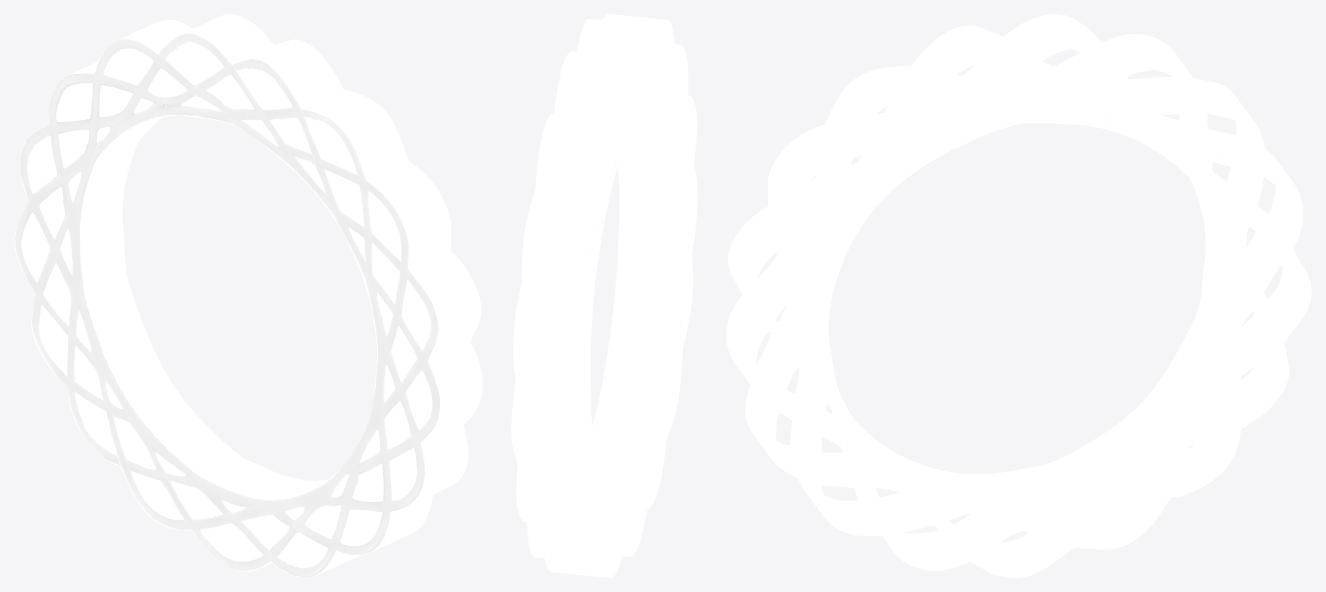
The picture shows the model from 3 angles, left to right: view 1: azimuth 30°, elevation 25°; view 2: azimuth 150°, elevation 25°; view 3: azimuth 270°, elevation 25°; orthographic projection. The views are drawn at different scales.
Parts seen in each view (by area): view 1: Layer 1; view 2: Layer 1; view 3: Layer 1.
Boxes of the visible parts, x1,y1,x2,y2 form: Layer 1: [14, 14, 482, 577]; Layer 1: [511, 14, 697, 577]; Layer 1: [726, 14, 1311, 577].
Size of the model in its own units: 0.0436 by 0.1084 by 0.1083.
Materials: 3 (3 with a texture image).
